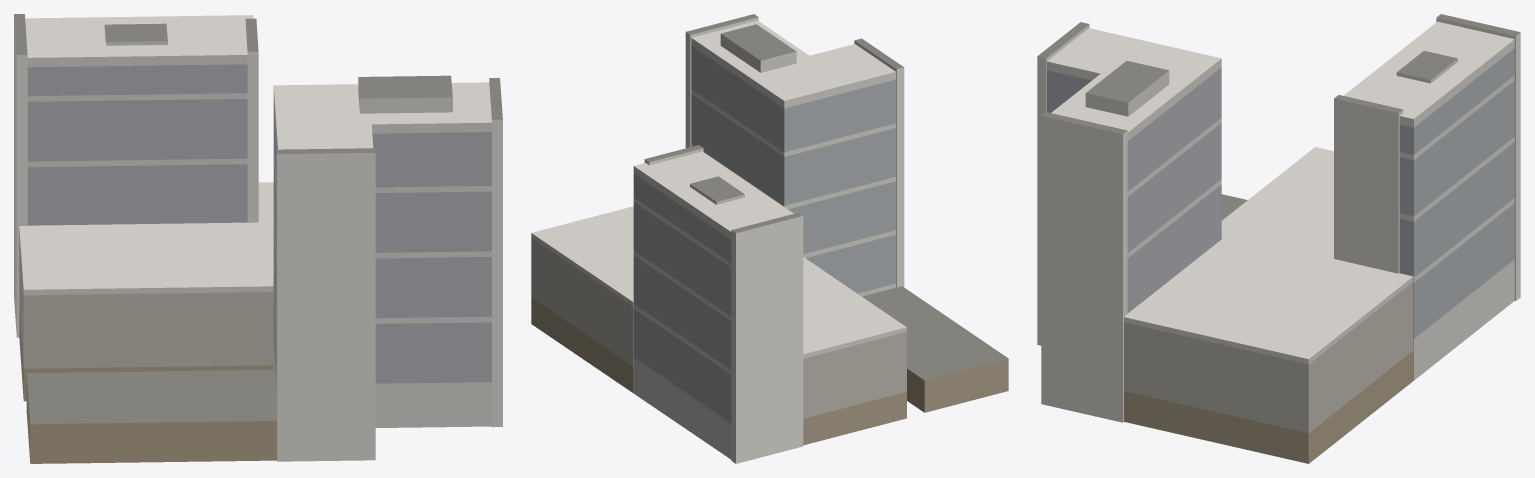
The model's file is four_queens_w206291994.glb.
The picture shows the model from 3 angles, left to right: view 1: azimuth 30°, elevation 25°; view 2: azimuth 150°, elevation 25°; view 3: azimuth 270°, elevation 25°; orthographic projection. The views are drawn at different scales.
Parts seen in each view (by area): view 1: Tower_w206291994; view 2: Tower_w206291994; view 3: Tower_w206291994.
Part boxes in pixels (x1,y1,x2,y2): Tower_w206291994: [14, 14, 502, 463]; Tower_w206291994: [531, 14, 1008, 463]; Tower_w206291994: [1037, 14, 1520, 463].
Bounding box in the file's own units: 117 × 68.2 × 99.99.
